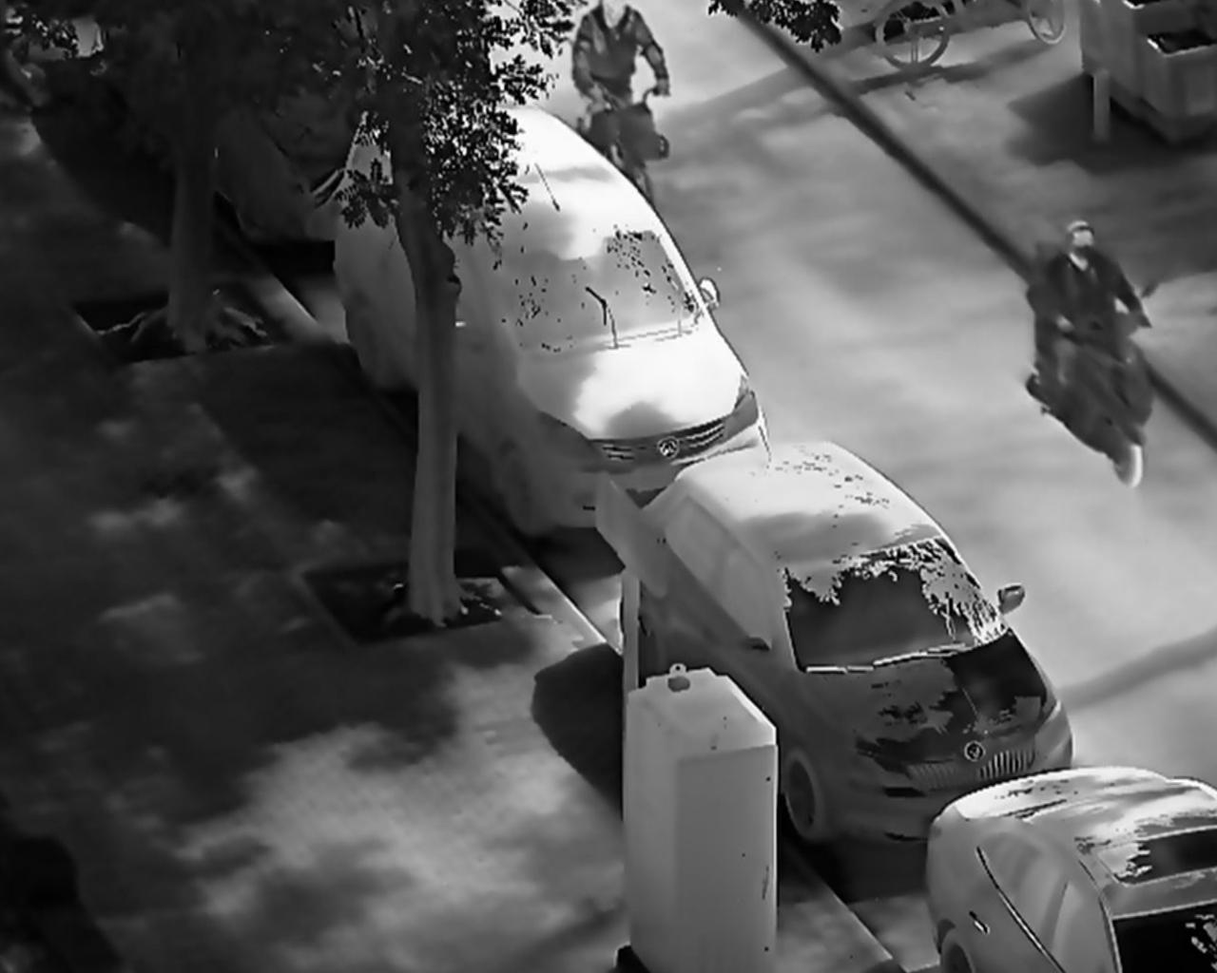person: (1033, 219, 1150, 388)
